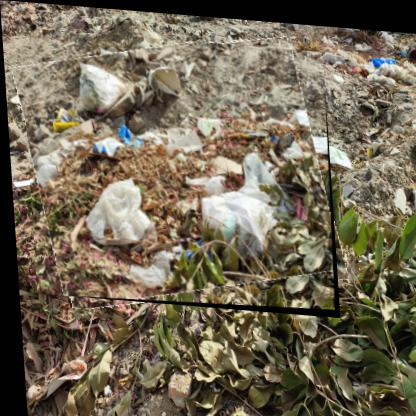Garbage: (20, 28, 338, 315)
